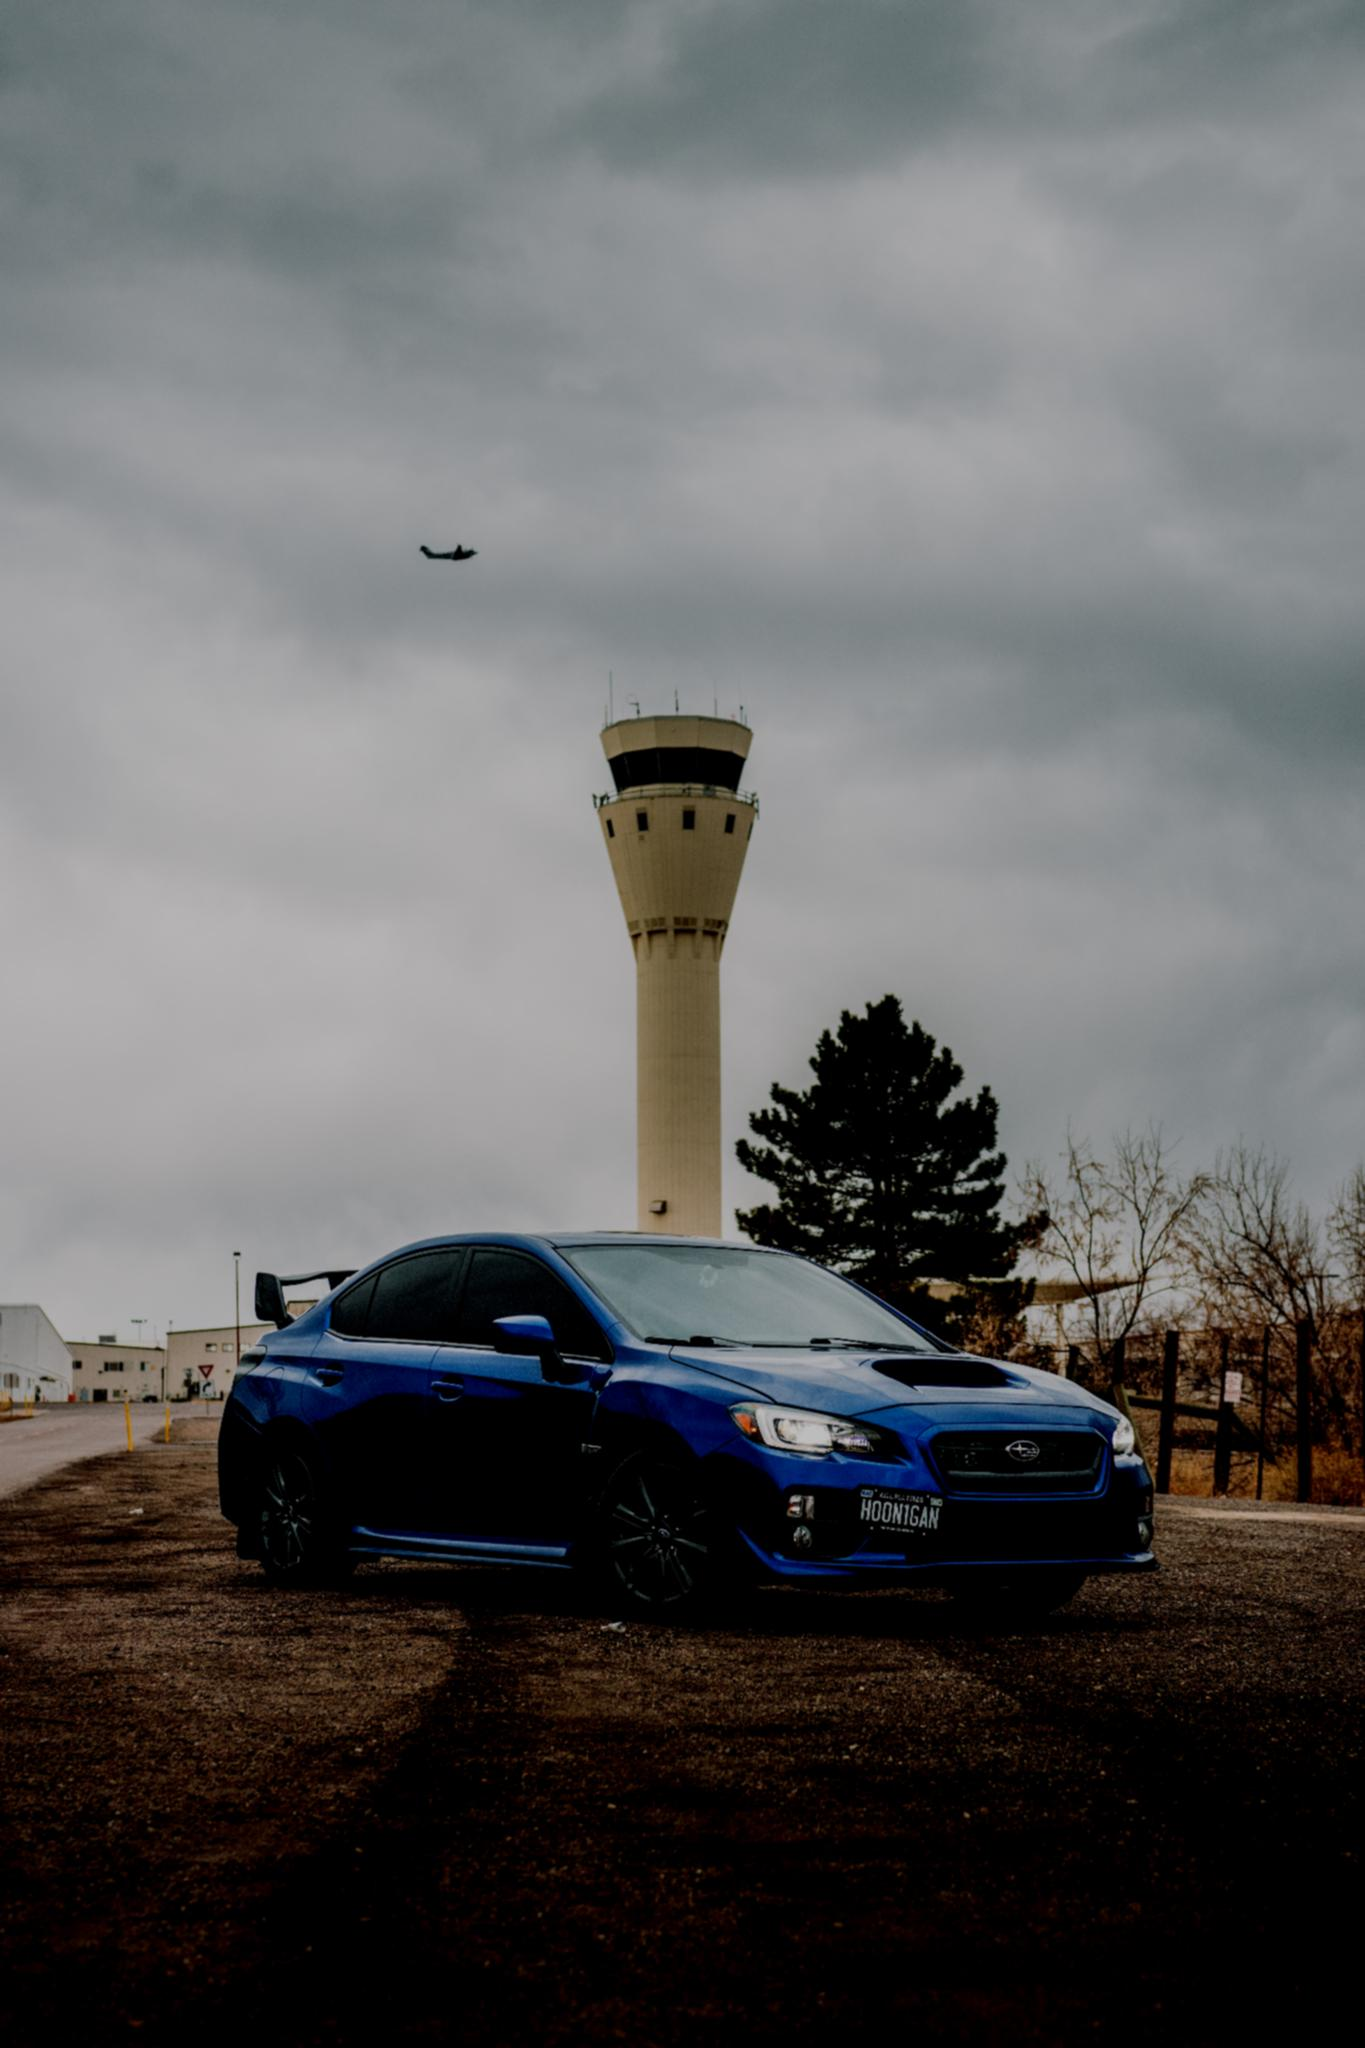subaru: (981, 1425, 1056, 1479)
